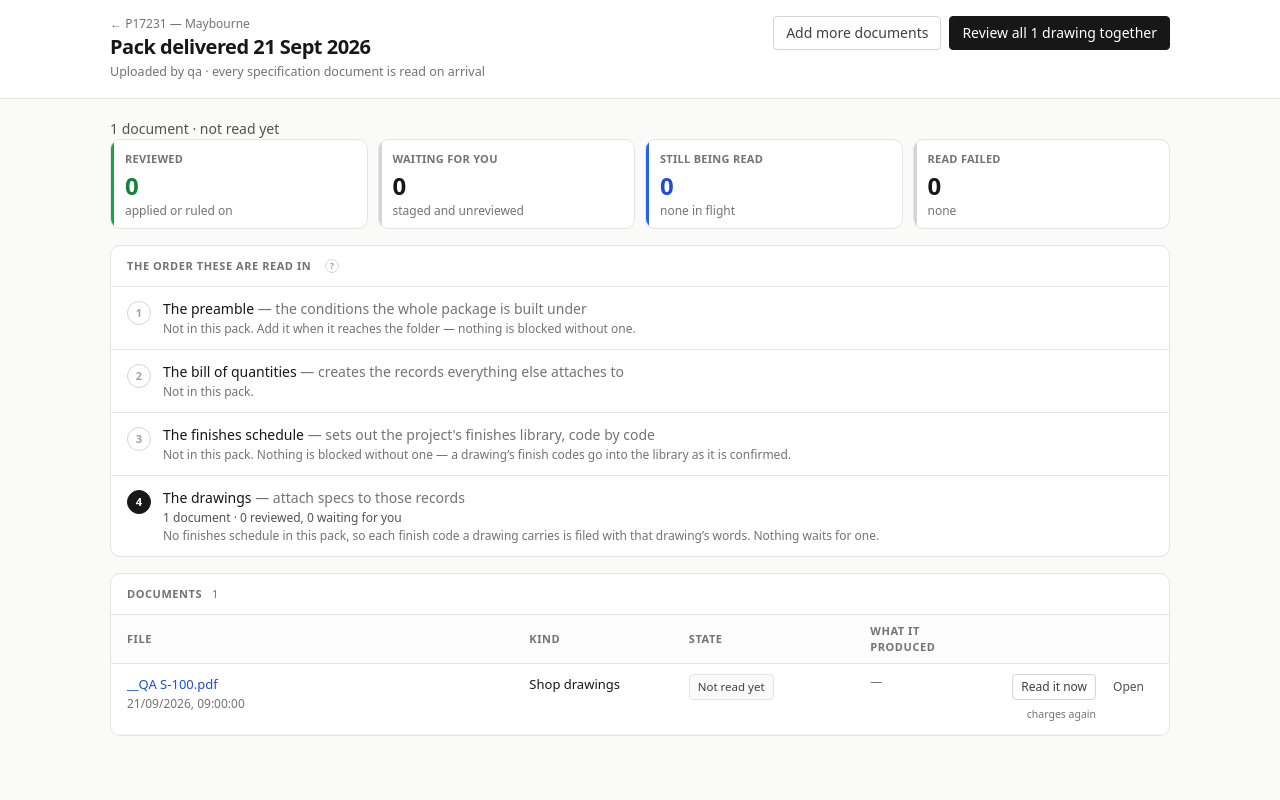
Test case: the pack screen, when a read is refused › keeps the refusal after the reload, and frees the row
The image size is (1280, 800).
Click the button "Read it now". click: click(1054, 686)
box: [1012,674,1096,700]
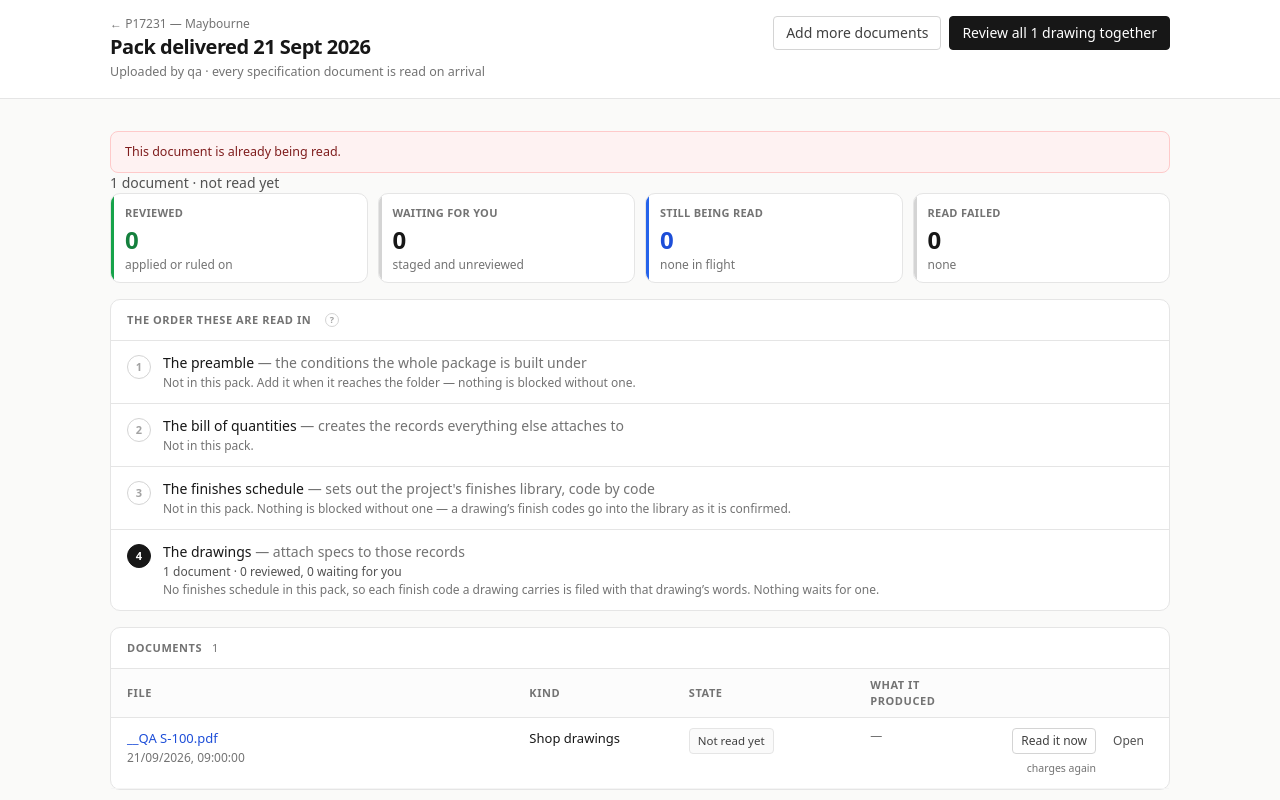
Check: the button "Read it now" is enabled, box [1012,728,1096,754]
Check: the text "This document is already being read." is shown, box [125,143,341,160]
